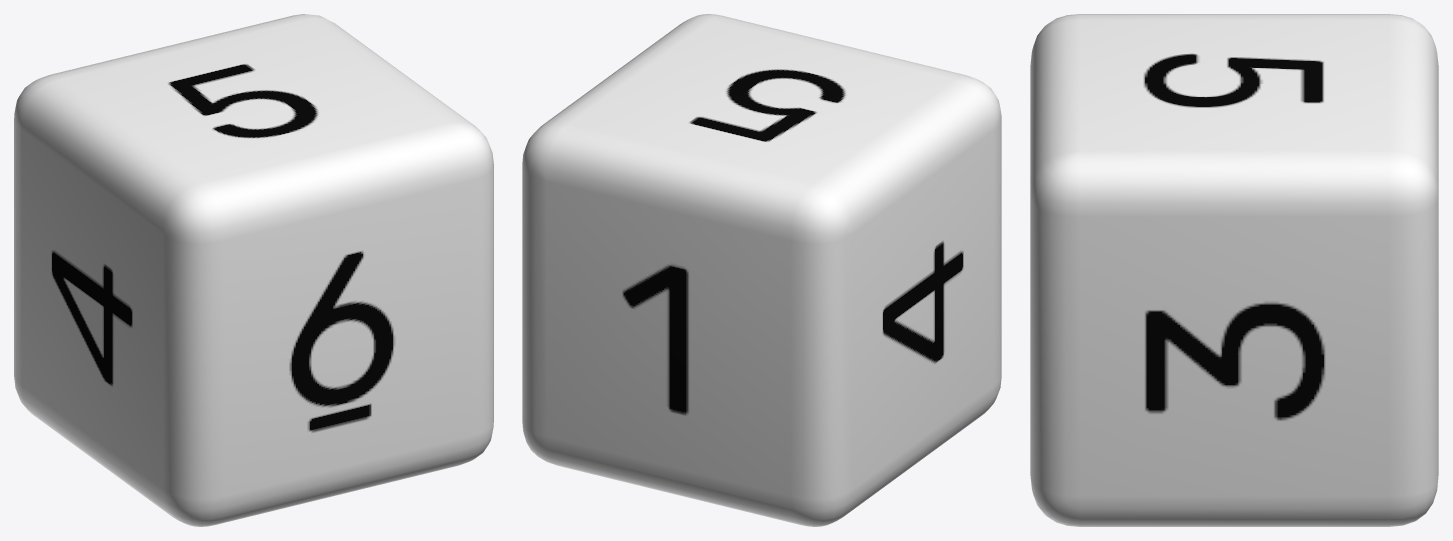
File: D6_Vol.FBX
3 views of the same model, side by side, from view 1: azimuth 30°, elevation 25°; view 2: azimuth 150°, elevation 25°; view 3: azimuth 270°, elevation 25° (orthographic). The views are drawn at different scales.
Visible parts, largest first — view 1: Dado6Numb; view 2: Dado6Numb; view 3: Dado6Numb.
Boxes of the visible parts, x1,y1,x2,y2 form: Dado6Numb: (14,14,493,526); Dado6Numb: (522,14,1001,526); Dado6Numb: (1030,14,1438,526).
Size of the model in its own units: 199 by 199 by 199.
